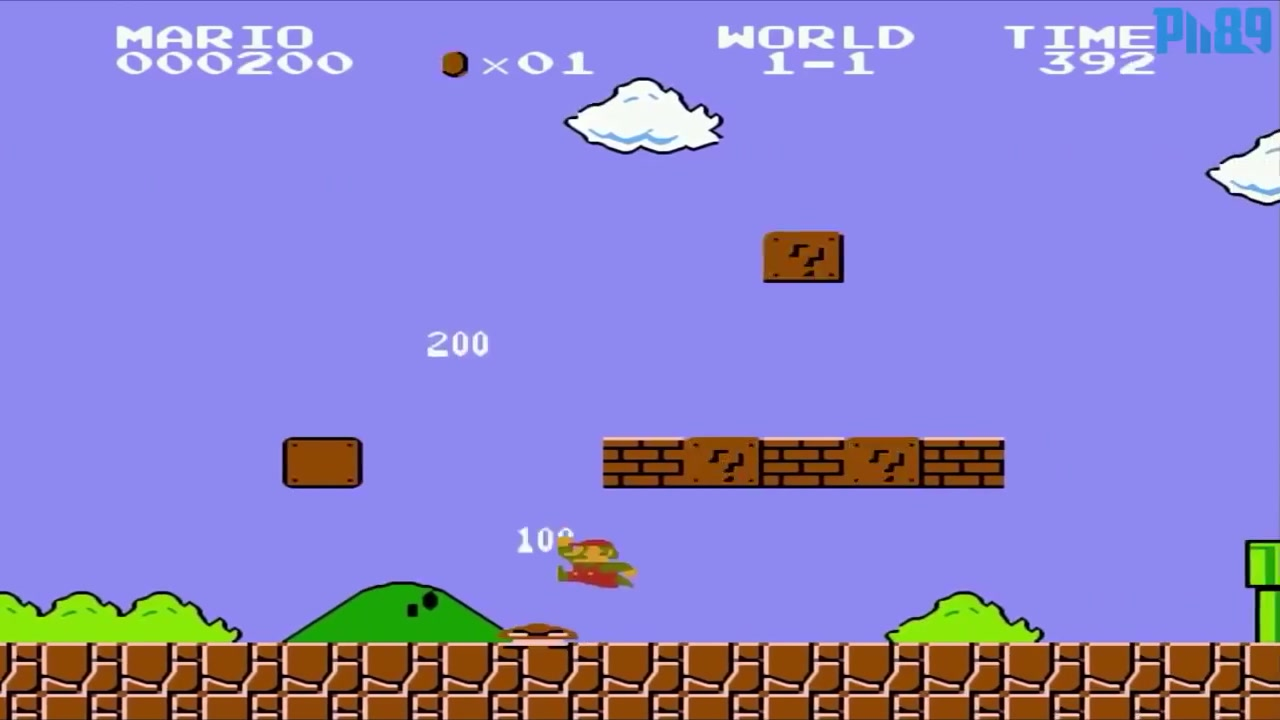mario: (547, 527, 641, 597)
